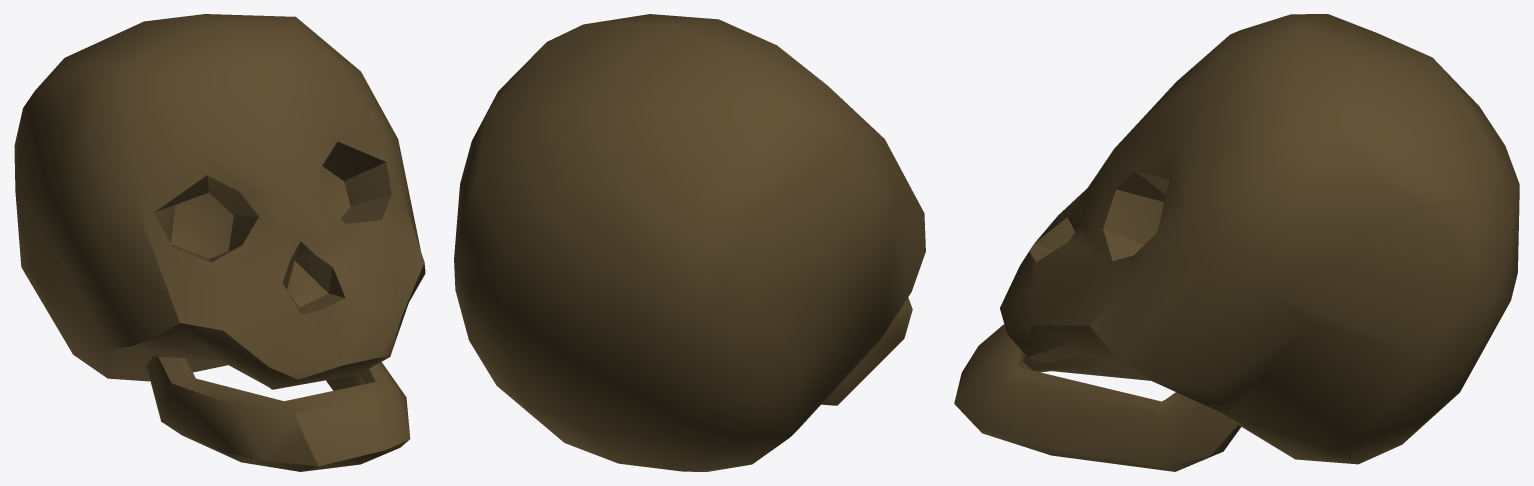
Rendered from Skull.obj.
3 renders of one model, left to right at view 1: azimuth 30°, elevation 25°; view 2: azimuth 150°, elevation 25°; view 3: azimuth 270°, elevation 25°, orthographic. The views are drawn at different scales.
Parts seen in each view (by area): view 1: Skull_Cylinder.001; view 2: Skull_Cylinder.001; view 3: Skull_Cylinder.001.
Boxes of the visible parts, bbox=[...] form: Skull_Cylinder.001: bbox=[14, 14, 425, 471]; Skull_Cylinder.001: bbox=[454, 14, 925, 471]; Skull_Cylinder.001: bbox=[954, 14, 1519, 471].
Bounding box in the file's own units: 0.4436 × 0.4606 × 0.5966.
